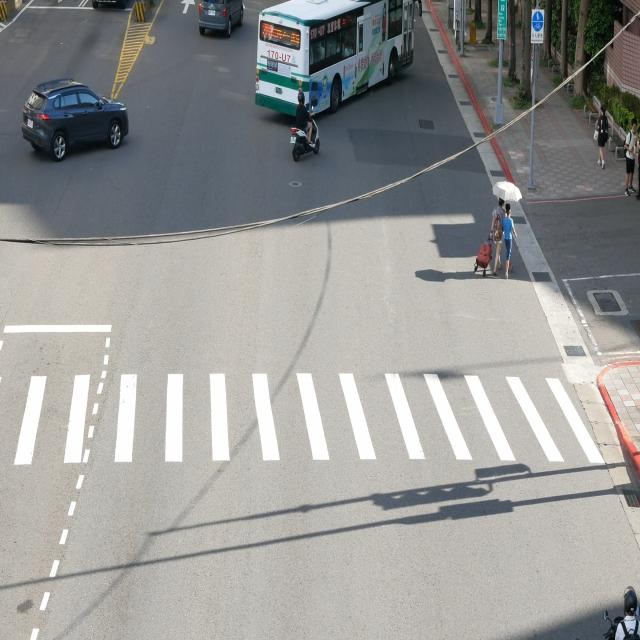pedestrian: (491, 199, 505, 276), (502, 210, 512, 260)
